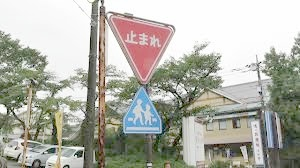Regulatory_sign_triangle: (110, 10, 180, 87)
